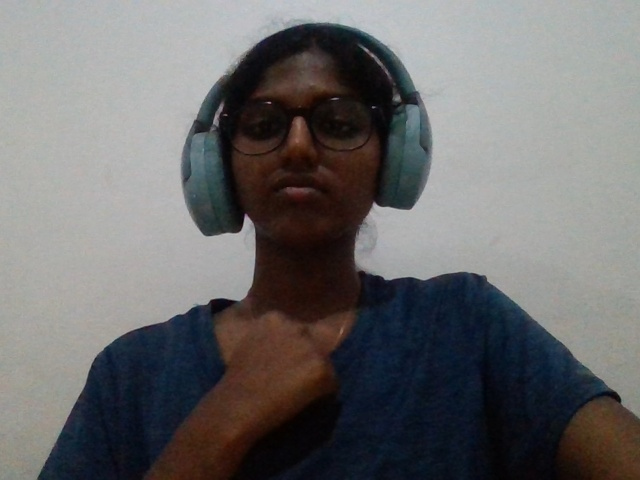Sorry: (188, 295, 403, 462)
